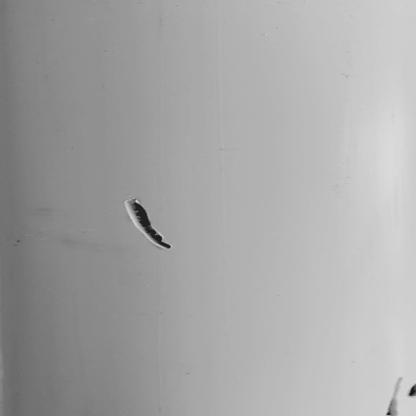kongdong: (119, 193, 178, 255)
